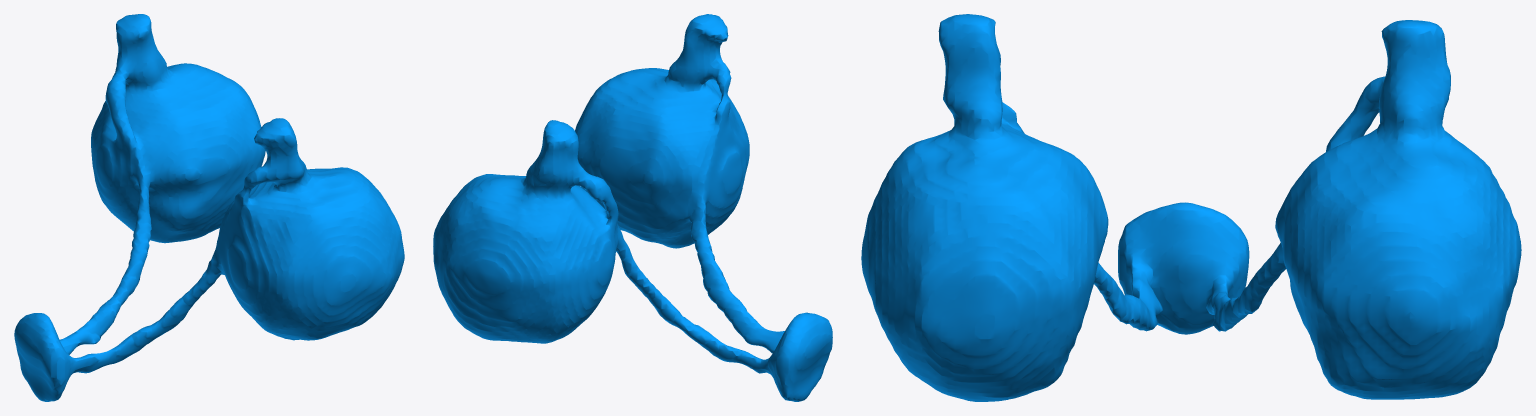
File: lamp1.glb
The picture shows the model from 3 angles, left to right: view 1: azimuth 30°, elevation 25°; view 2: azimuth 150°, elevation 25°; view 3: azimuth 270°, elevation 25°; orthographic projection. The views are drawn at different scales.
Visible parts, largest first — view 1: entity_8; view 2: entity_8; view 3: entity_8.
Part boxes in pixels (x1,y1,x2,y2): entity_8: (14,14,404,401); entity_8: (433,14,832,401); entity_8: (861,14,1521,401).
Bounding box in the file's own units: 0.6284 × 0.5764 × 0.7814.
